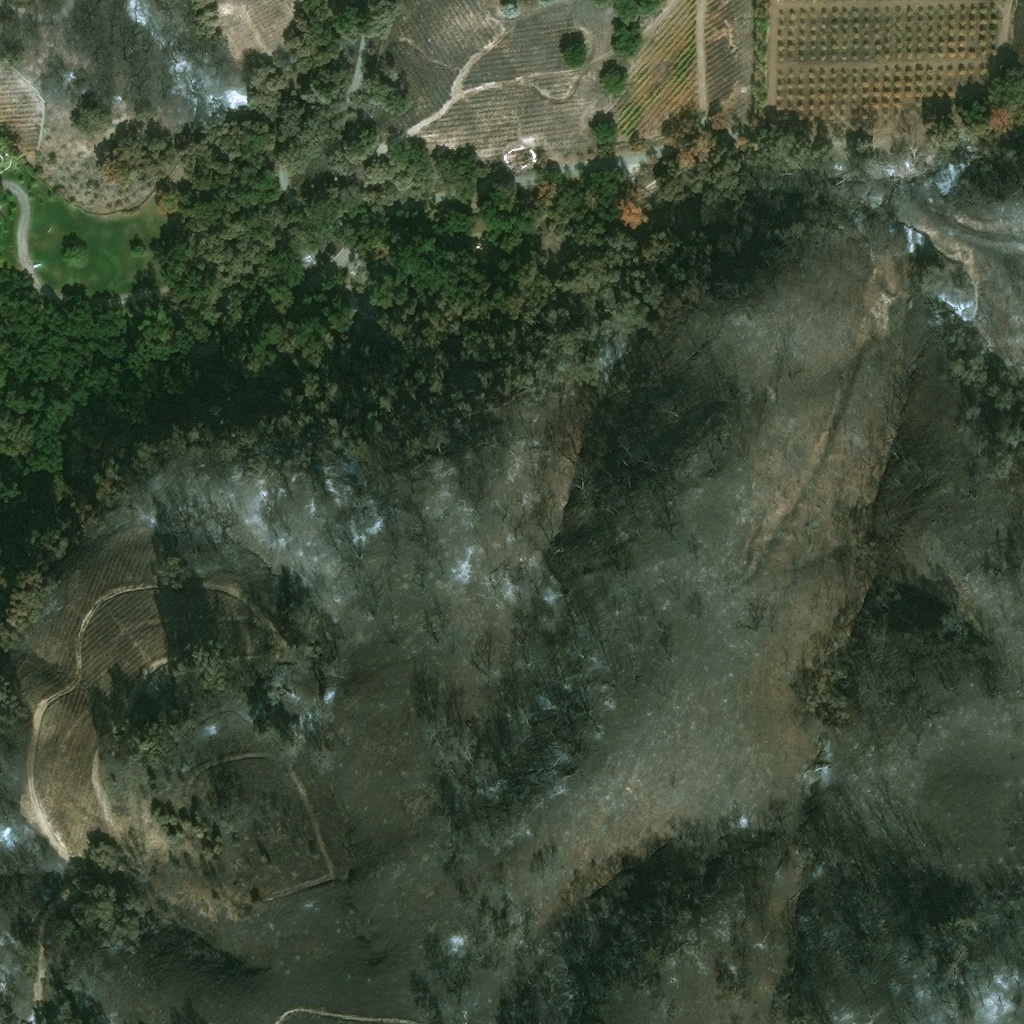3 destroyed: (502, 141, 537, 171)
